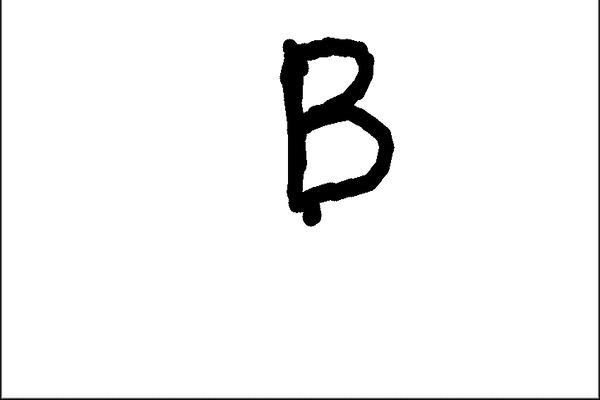B: (267, 27, 401, 235)
